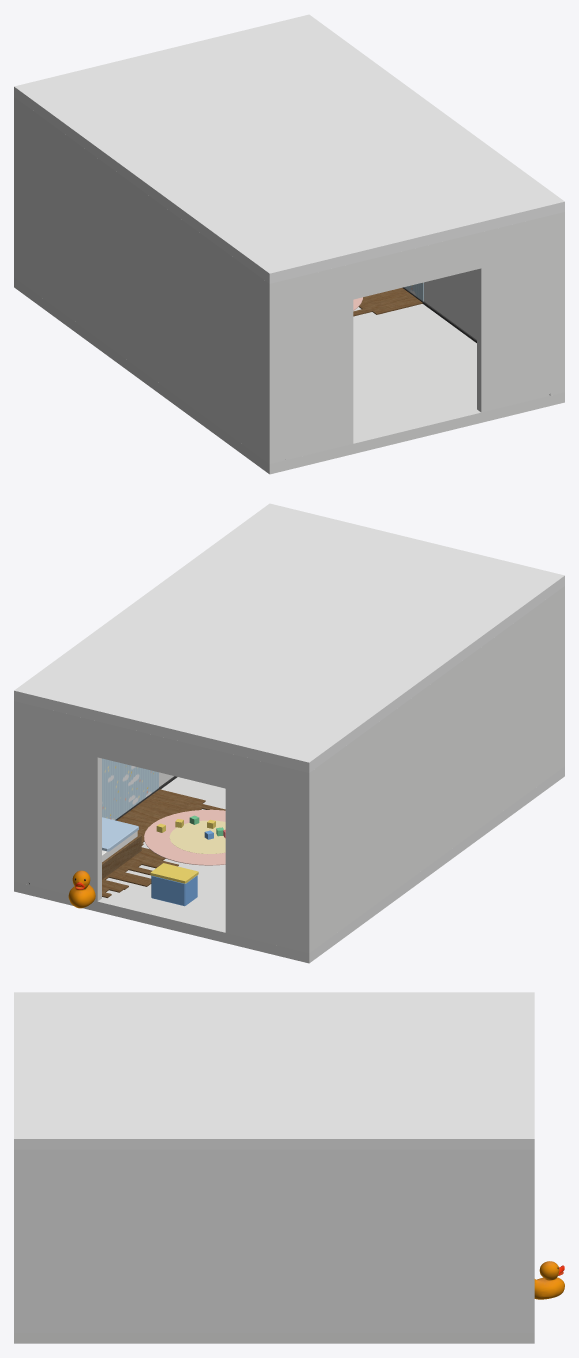
Rendered from room_kids_s3.glb.
3 renders of one model, top to bottom at view 1: azimuth 30°, elevation 25°; view 2: azimuth 150°, elevation 25°; view 3: azimuth 270°, elevation 25°, orthographic.
Parts seen in each view (by area): view 1: room_kids_s3_static; view 2: room_kids_s3_static; view 3: room_kids_s3_static.
Part boxes in pixels (x1,y1,x2,y2): room_kids_s3_static: [14, 14, 564, 474]; room_kids_s3_static: [14, 503, 564, 963]; room_kids_s3_static: [14, 992, 564, 1343].
Size of the model in its own units: 6 by 3.9 by 9.52.
23 materials, 4 textured.
